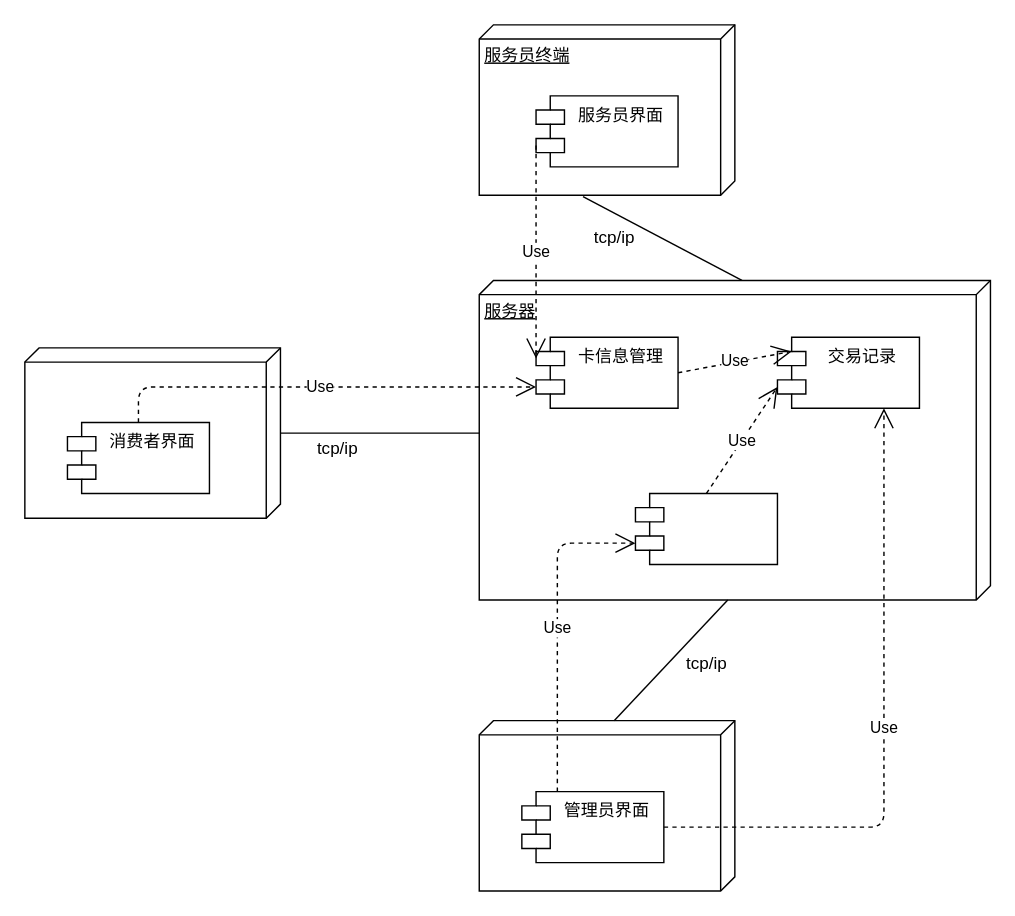
Some shapes in this 1015 by 916 pixel diagram are drawn without their labels. Here are the shapes that lost their labels. From the top down, the box of each, then its label:
(23, 346, 280, 518): 消费者终端
(634, 492, 777, 564): 统计模块
(478, 719, 735, 891): 管理员pc
